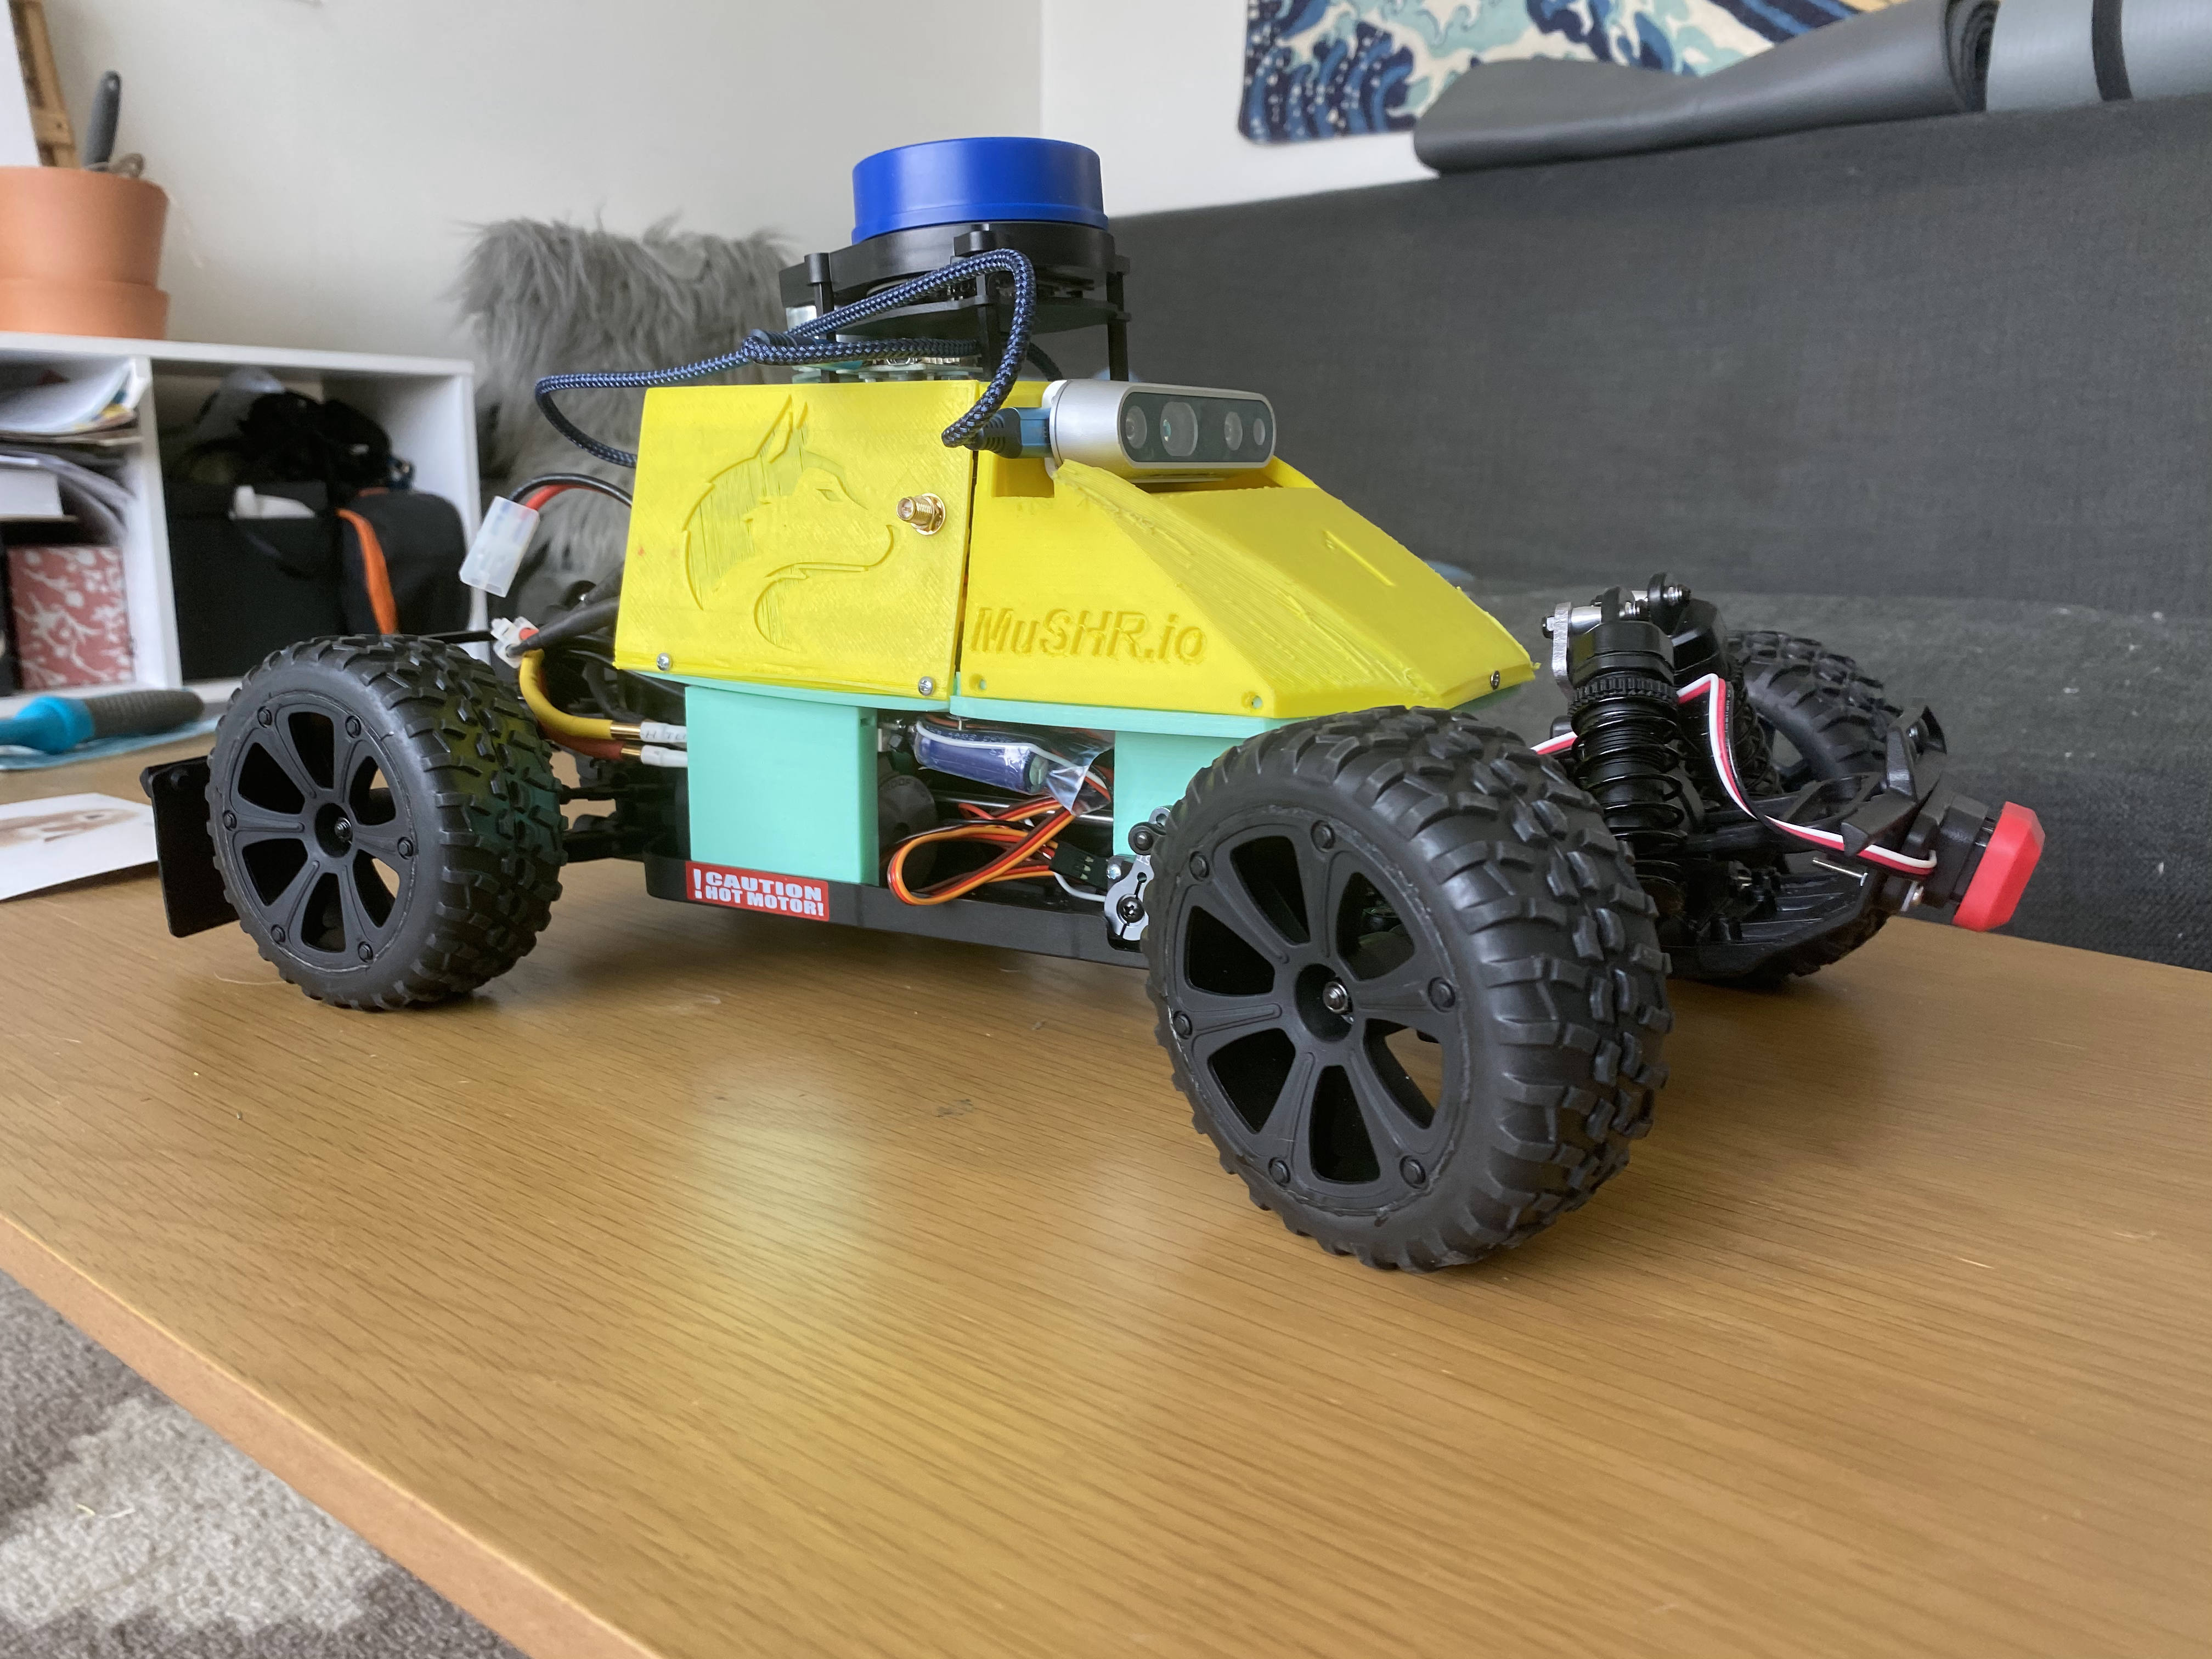mushr_car: (139, 129, 2027, 1284)
